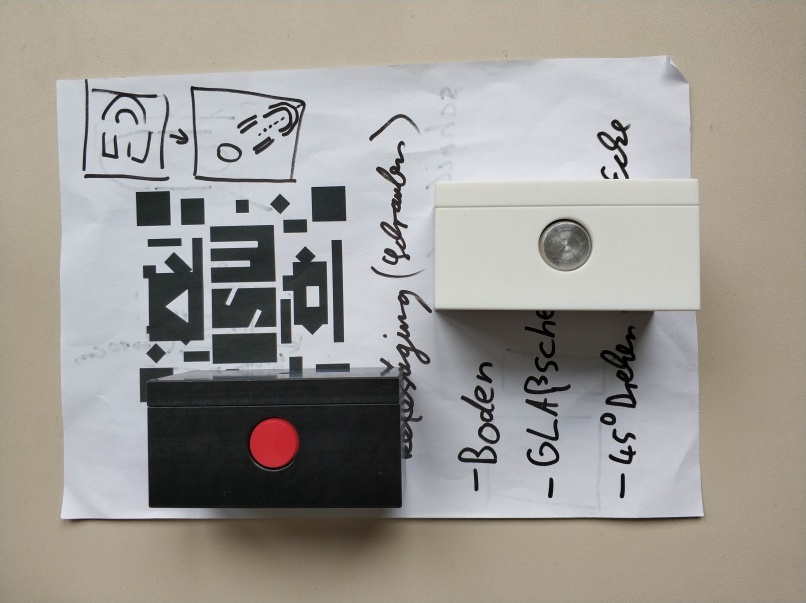black+black+red: (149, 366, 405, 510)
white+white+silver: (430, 177, 703, 314)
